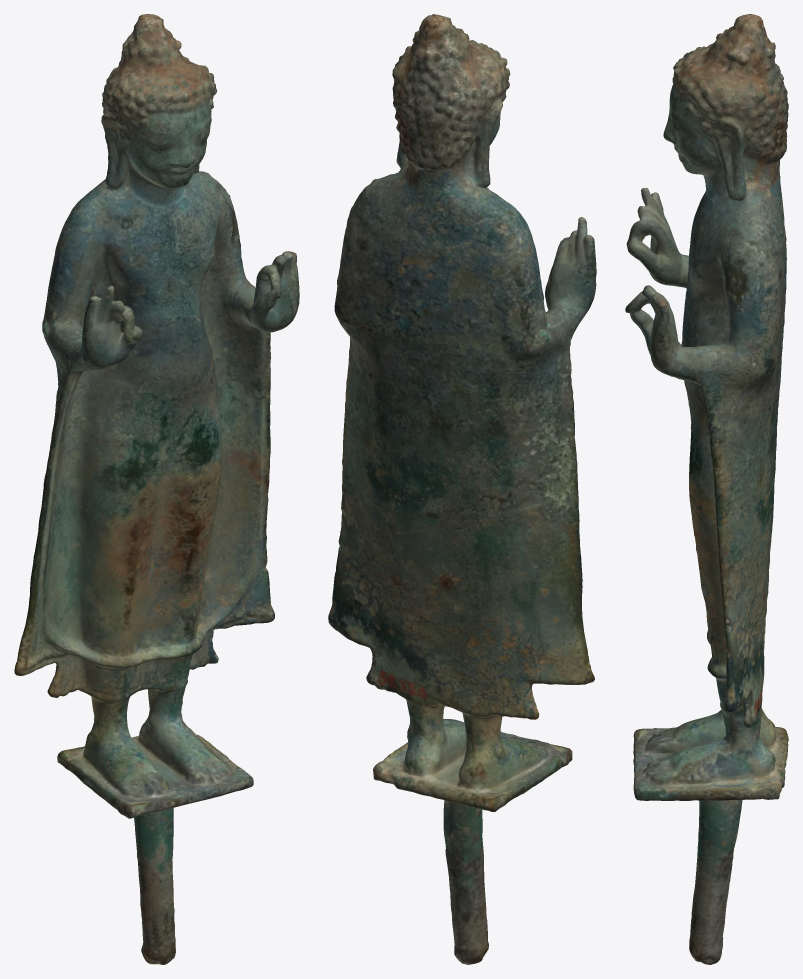
Rendered from teaching-buddha.glb.
The picture shows the model from 3 angles, left to right: view 1: azimuth 30°, elevation 25°; view 2: azimuth 150°, elevation 25°; view 3: azimuth 270°, elevation 25°; orthographic projection. The views are drawn at different scales.
Parts seen in each view (by area): view 1: Object_2; view 2: Object_2; view 3: Object_2.
Boxes of the visible parts, x1,y1,x2,y2 form: Object_2: (14, 14, 299, 964); Object_2: (328, 14, 596, 964); Object_2: (625, 14, 788, 964).
Size of the model in its own units: 0.2913 by 0.9999 by 0.1556.
1 material, 1 textured.
